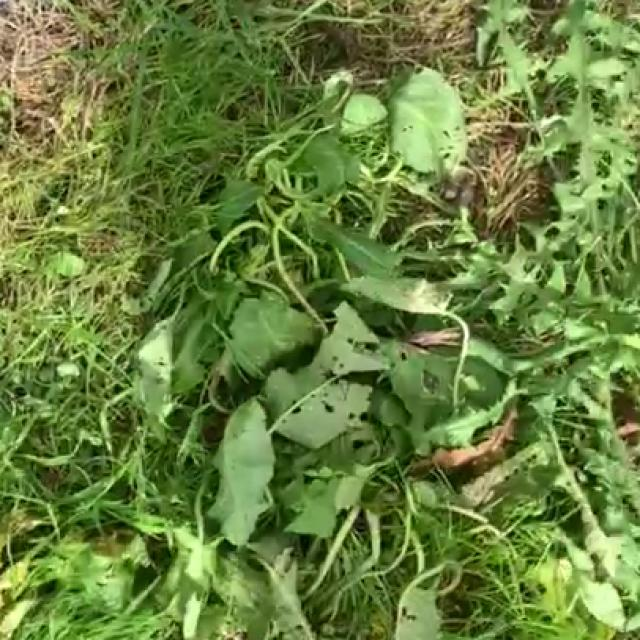organic waste: (120, 60, 596, 432), (85, 310, 495, 552)
